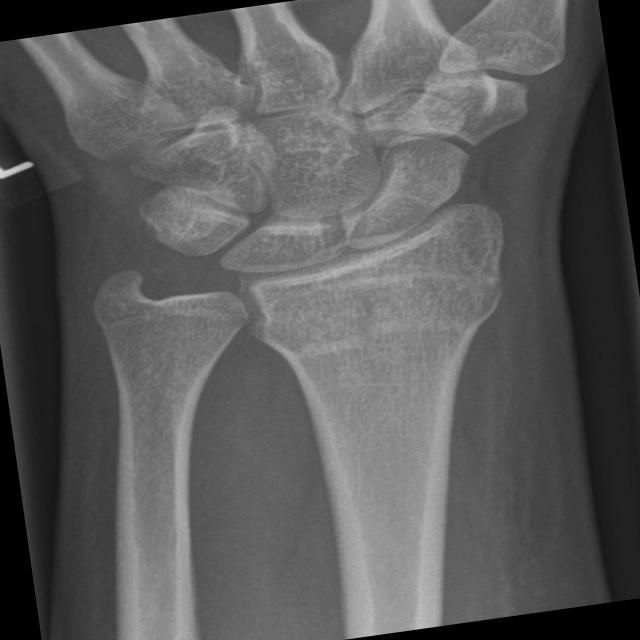fracture: (236, 236, 526, 335), (85, 276, 262, 362)
